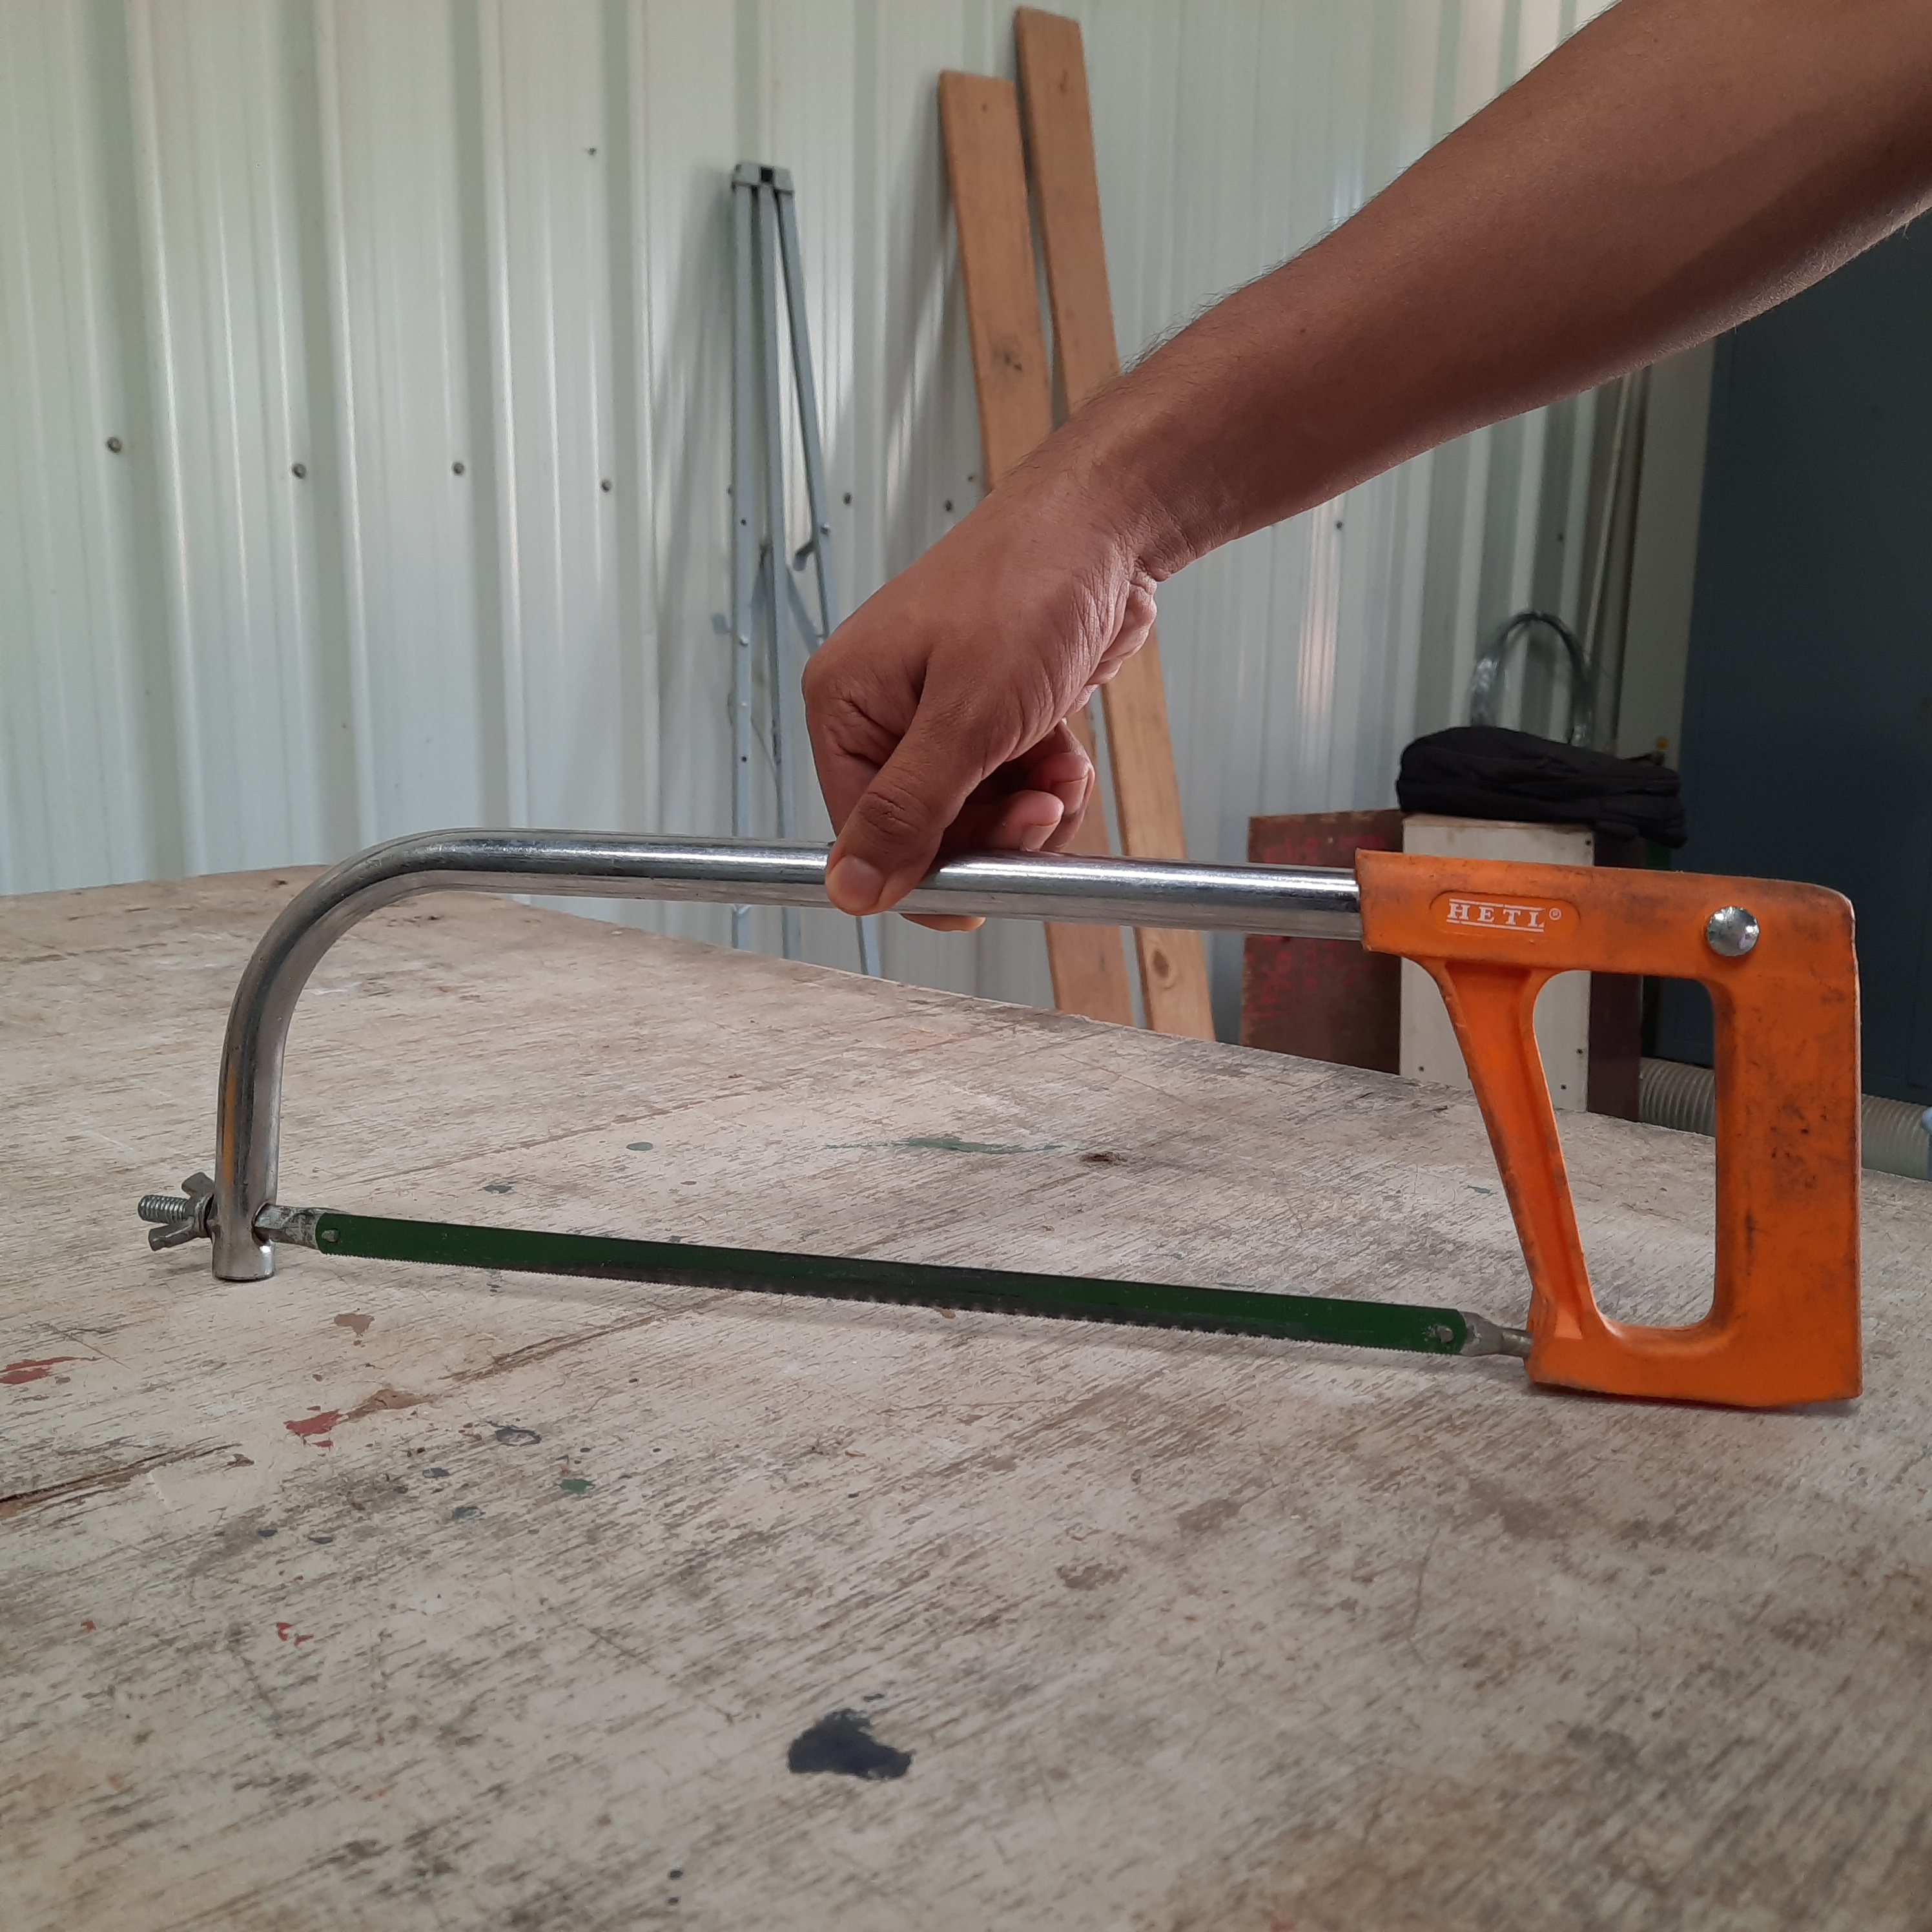Hexaframe: (143, 789, 1872, 1444)
